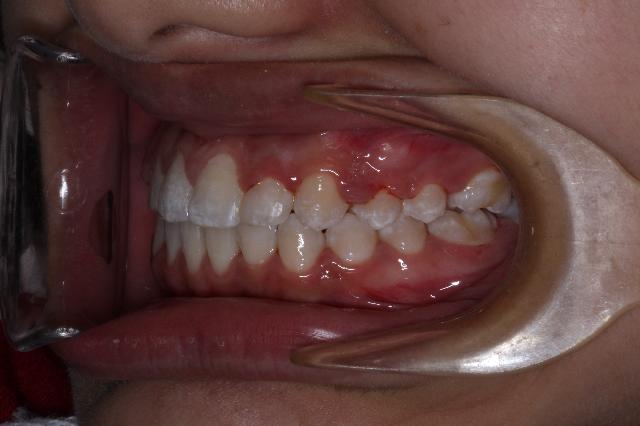canine class II 1/4: (275, 171, 379, 278)
molar class III 1/4: (428, 165, 518, 255)
